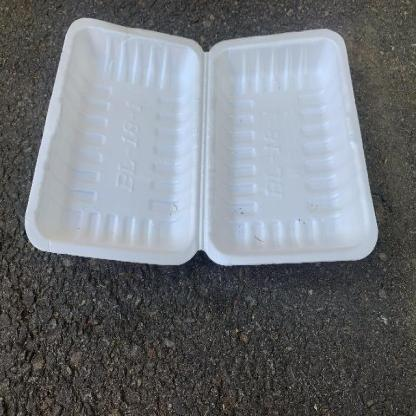Glass Cup: (23, 16, 377, 265), (24, 18, 378, 265)
